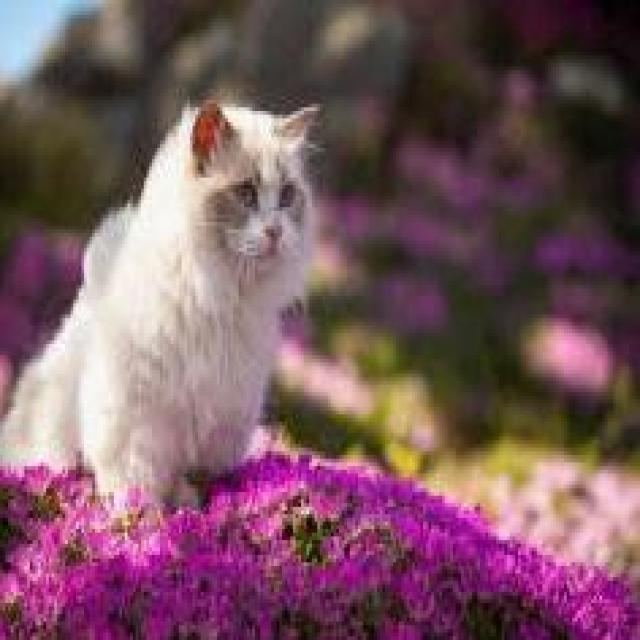Gato: (0, 89, 334, 525)
